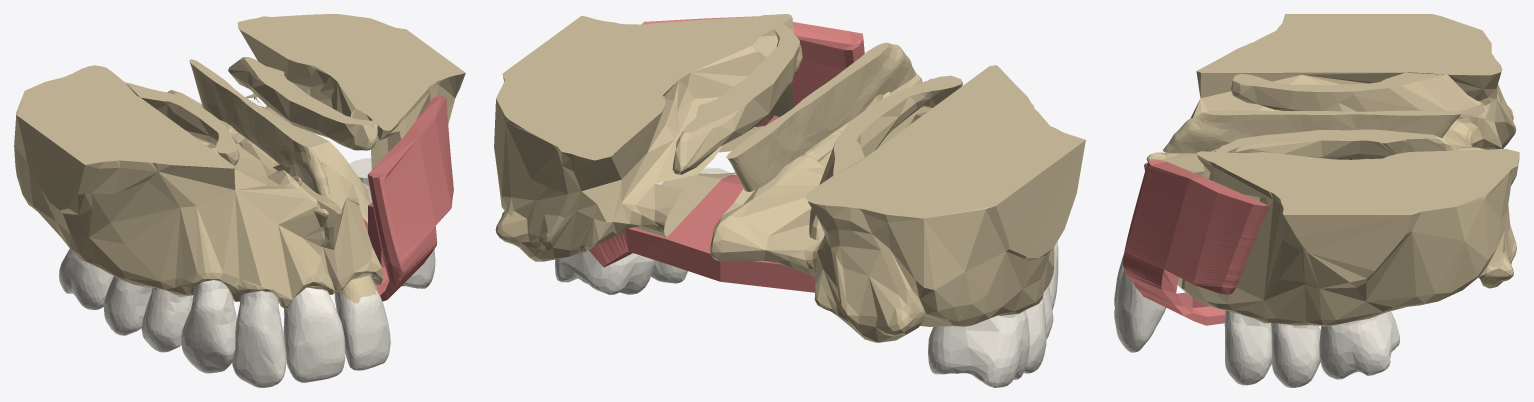
Rendered from abg-placeholder.glb.
3 renders of one model, left to right at view 1: azimuth 30°, elevation 25°; view 2: azimuth 150°, elevation 25°; view 3: azimuth 270°, elevation 25°, orthographic. The views are drawn at different scales.
Visible parts, largest first — view 1: bone, teeth, soft-tissue; view 2: bone, soft-tissue, teeth; view 3: bone, soft-tissue, teeth.
Part boxes in pixels (bbox=[...]): bone: bbox=[14, 14, 465, 308]; teeth: bbox=[59, 158, 435, 387]; soft-tissue: bbox=[363, 95, 453, 301]; bone: bbox=[494, 14, 1085, 342]; soft-tissue: bbox=[589, 16, 864, 292]; teeth: bbox=[555, 167, 1058, 387]; bone: bbox=[1144, 14, 1519, 326]; soft-tissue: bbox=[1123, 159, 1268, 325]; teeth: bbox=[1114, 254, 1399, 387].
Size of the model in its own units: 0.0972 by 0.0502 by 0.0828.
